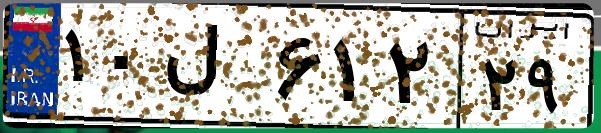0: (110, 28, 158, 98)
1: (330, 28, 385, 110), (57, 26, 110, 100)
2: (385, 28, 445, 110), (475, 38, 525, 113)
6: (270, 28, 330, 110)
9: (525, 38, 570, 115)
ل: (158, 20, 270, 120)
